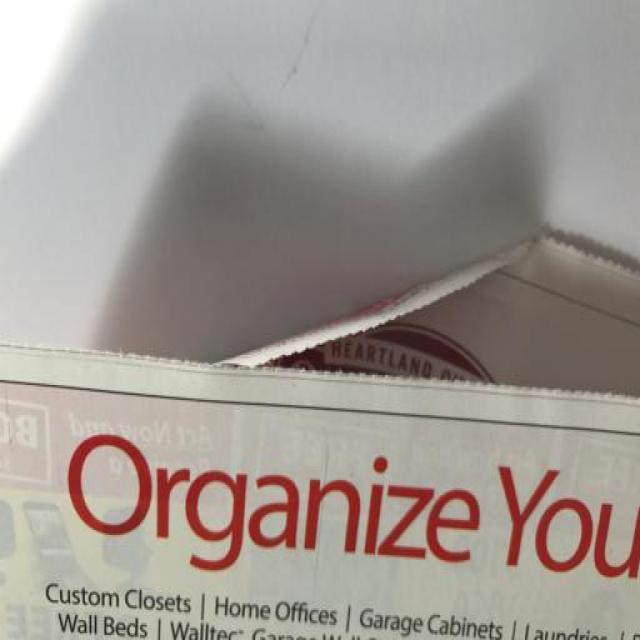paper: (5, 141, 640, 640)
